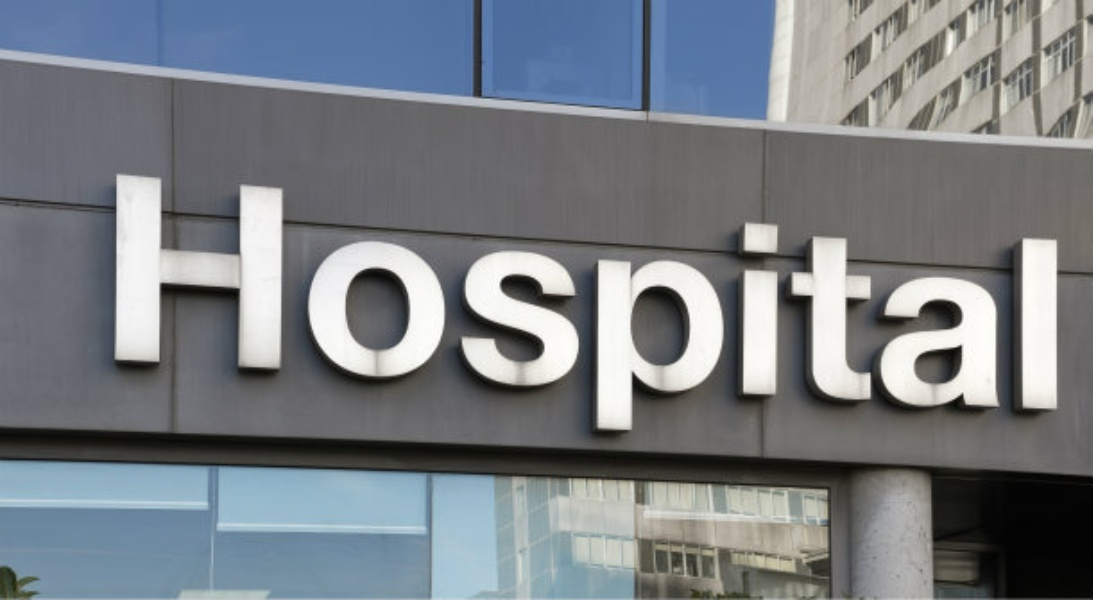text: (113, 167, 128, 459), (129, 167, 144, 459), (145, 167, 160, 459), (161, 167, 176, 459), (177, 167, 192, 459), (193, 167, 208, 459), (209, 167, 224, 459), (225, 167, 240, 459), (241, 167, 256, 459), (257, 167, 272, 459), (273, 167, 288, 459), (289, 167, 304, 459), (305, 167, 320, 459), (321, 167, 336, 459), (337, 167, 352, 459), (353, 167, 368, 459), (369, 167, 384, 459), (385, 167, 400, 459), (401, 167, 416, 459), (417, 167, 432, 459), (433, 167, 448, 459), (449, 167, 464, 459), (465, 167, 480, 459), (481, 167, 496, 459), (497, 167, 512, 459), (513, 167, 528, 459), (529, 167, 544, 459), (545, 167, 560, 459), (561, 167, 576, 459), (577, 167, 592, 459), (593, 167, 608, 459), (609, 167, 624, 459), (625, 167, 640, 459), (641, 167, 656, 459), (657, 167, 672, 459), (673, 167, 688, 459), (689, 167, 704, 459), (705, 167, 720, 459), (721, 167, 736, 459), (737, 167, 752, 459), (753, 167, 768, 459), (769, 167, 784, 459), (785, 167, 800, 459), (801, 167, 816, 459), (817, 167, 832, 459), (833, 167, 848, 459), (849, 167, 864, 459), (865, 167, 880, 459), (881, 167, 896, 459), (897, 167, 912, 459), (913, 167, 928, 459), (929, 167, 944, 459), (945, 167, 960, 459), (961, 167, 976, 459), (977, 167, 992, 459), (993, 167, 1008, 459), (1009, 167, 1024, 459), (1025, 167, 1040, 459), (1041, 167, 1056, 459), (1057, 167, 1063, 459)
